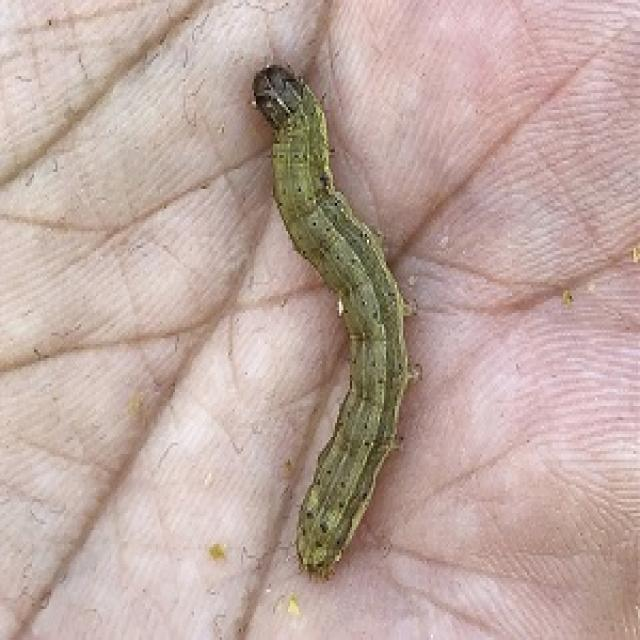Fall-armyworm: (251, 59, 411, 581)
